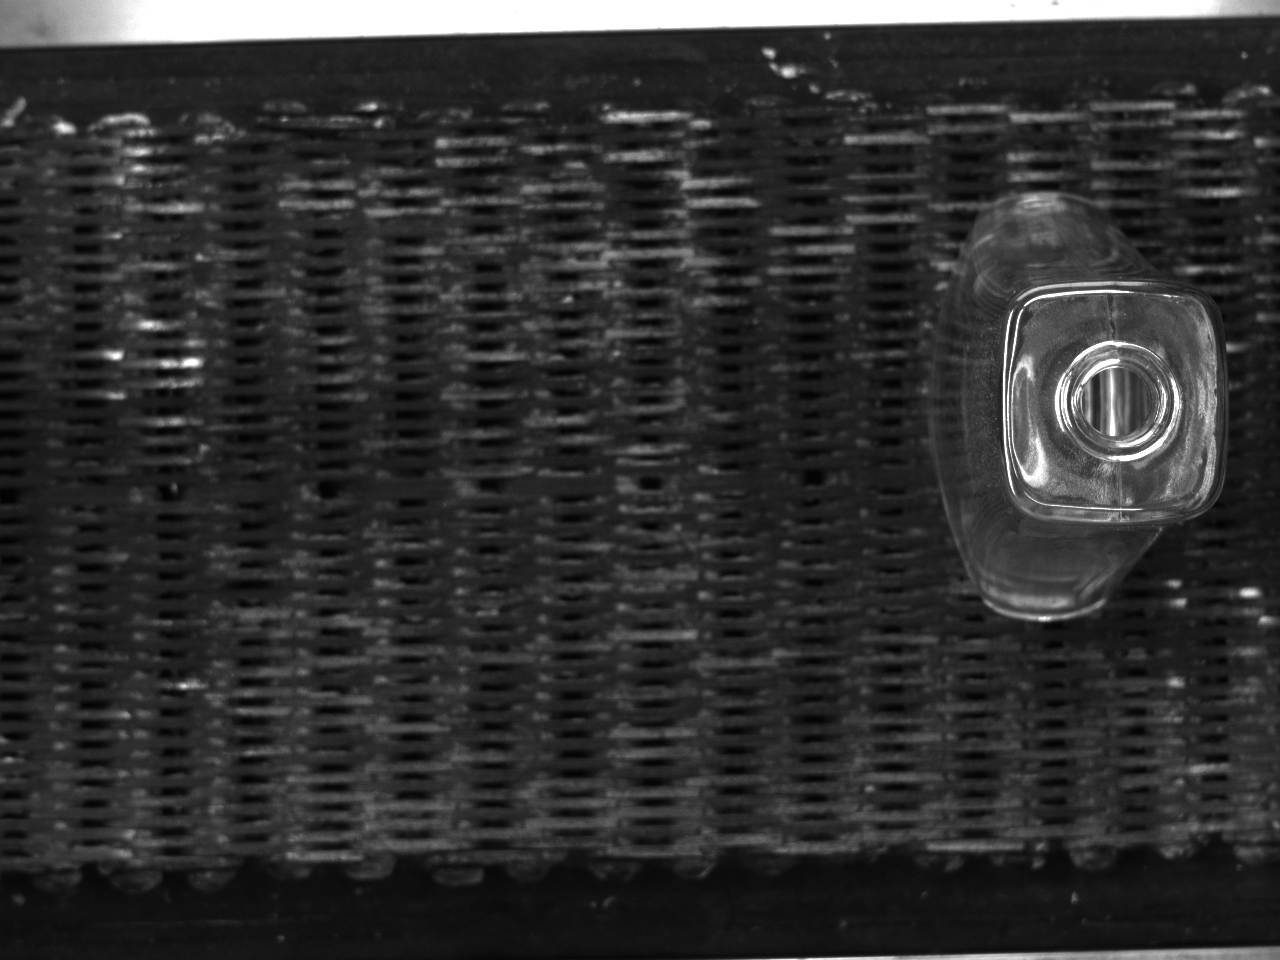bottleneck: (1061, 341, 1184, 461)
